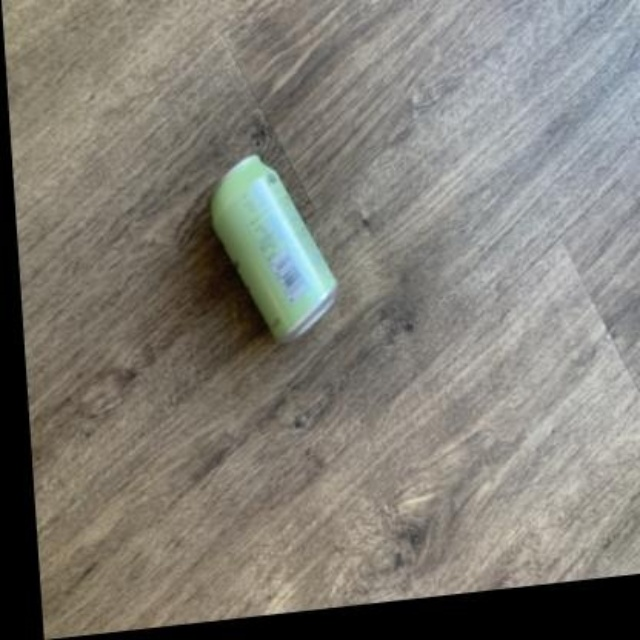trash: (211, 155, 335, 340)
